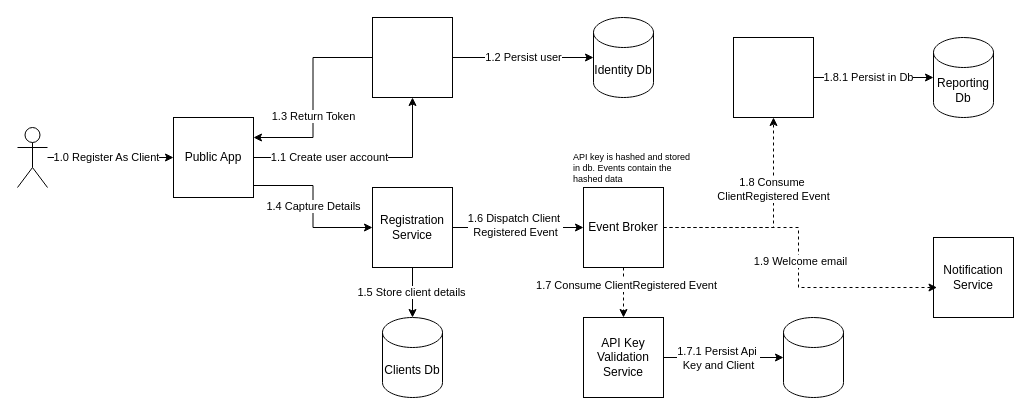
Some shapes in this 1031 by 415 pixel diagram are drawn without their labels. Here are the shapes that lost their labels. From the top down, the box of each, then its label:
(372, 16, 452, 98): Identity Service
(732, 36, 814, 118): Reporting Service
(16, 126, 48, 188): User
(782, 316, 844, 398): Dynamo Db(PK Client Id)
